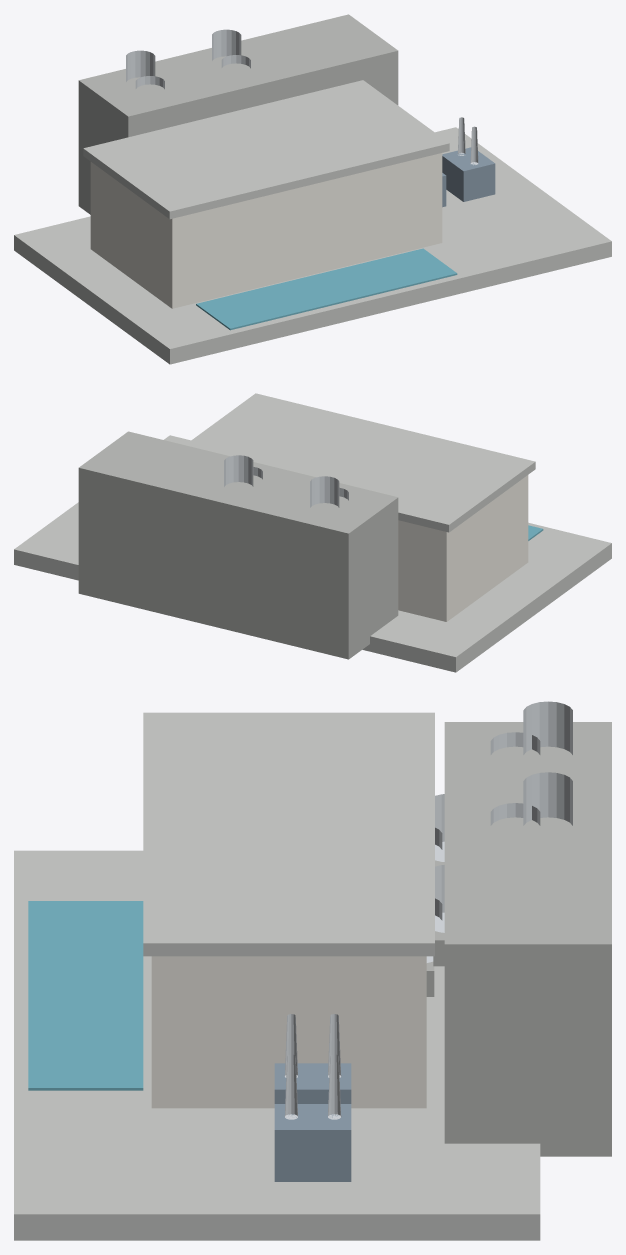
The model's file is lm_83_nha_may_thuy_dien_da_nhim_dran_penstock_station.glb.
The picture shows the model from 3 angles, top to bottom: view 1: azimuth 30°, elevation 25°; view 2: azimuth 150°, elevation 25°; view 3: azimuth 270°, elevation 25°; orthographic projection. The views are drawn at different scales.
Parts seen in each view (by area): view 1: lm_83_nha_may_thuy_dien_da_nhim_dran_penstock_station; view 2: lm_83_nha_may_thuy_dien_da_nhim_dran_penstock_station; view 3: lm_83_nha_may_thuy_dien_da_nhim_dran_penstock_station.
Part boxes in pixels (x1,y1,x2,y2): lm_83_nha_may_thuy_dien_da_nhim_dran_penstock_station: (14, 14, 611, 364); lm_83_nha_may_thuy_dien_da_nhim_dran_penstock_station: (14, 393, 611, 672); lm_83_nha_may_thuy_dien_da_nhim_dran_penstock_station: (14, 701, 611, 1240).
Size of the model in its own units: 36 by 12.48 by 25.
